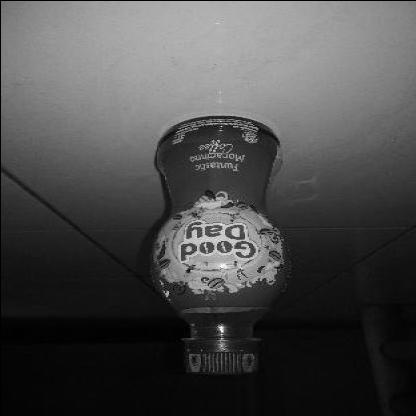plastic_bottles: (144, 113, 290, 379)
